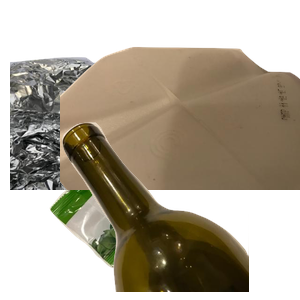glass: (60, 120, 300, 300)
metal: (10, 47, 250, 227)
plastic: (60, 44, 300, 224)
trash: (47, 146, 220, 300)
